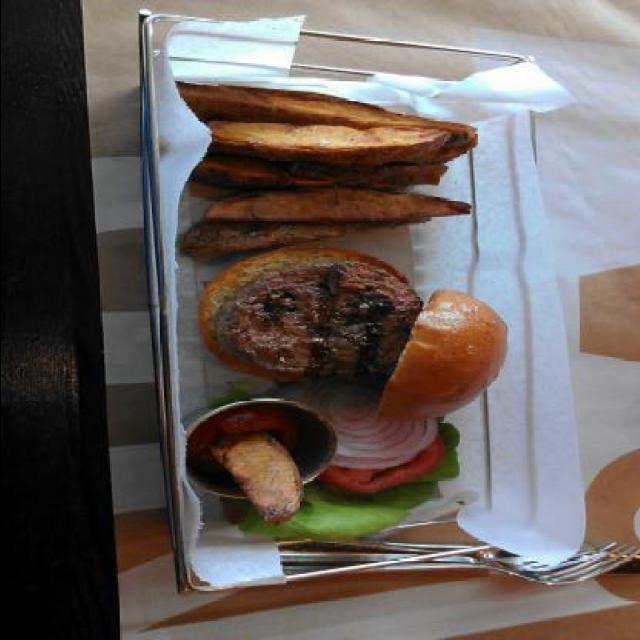Hamburger: (190, 248, 507, 420)
